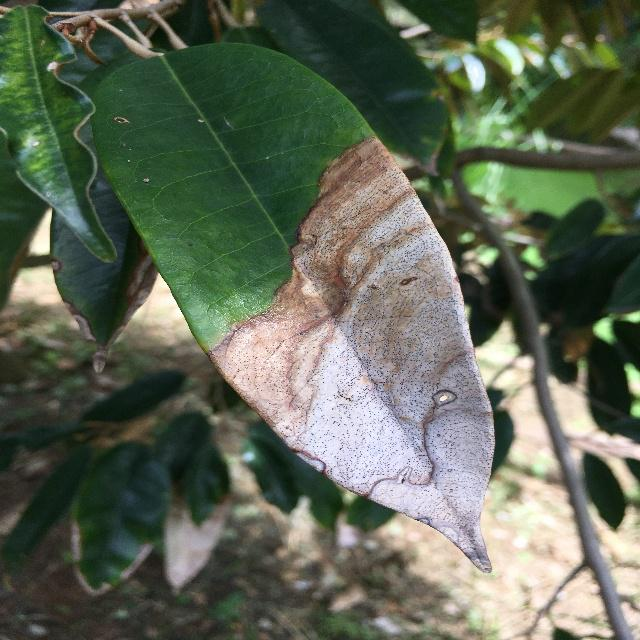Leaf Blight: (86, 36, 505, 579)
